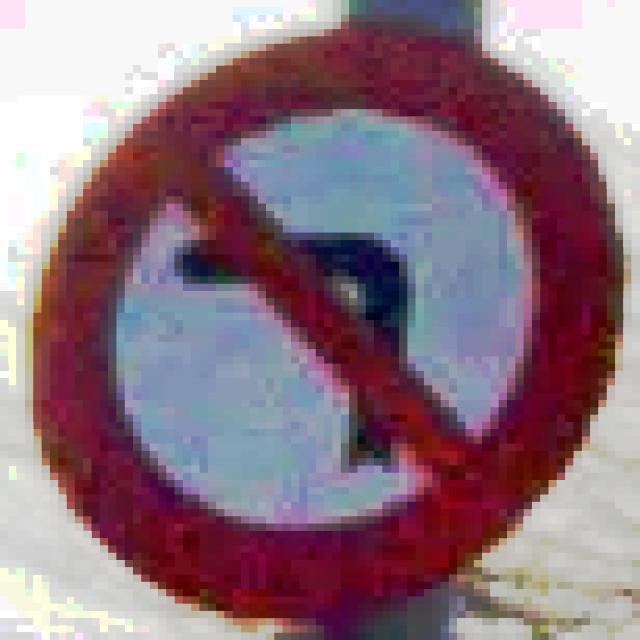noturnleft: (16, 14, 624, 626)
